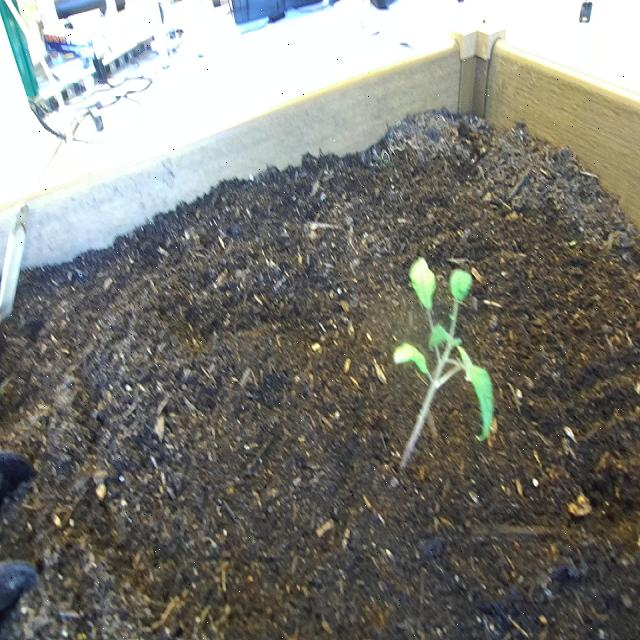Healthy: (390, 256, 497, 479)
